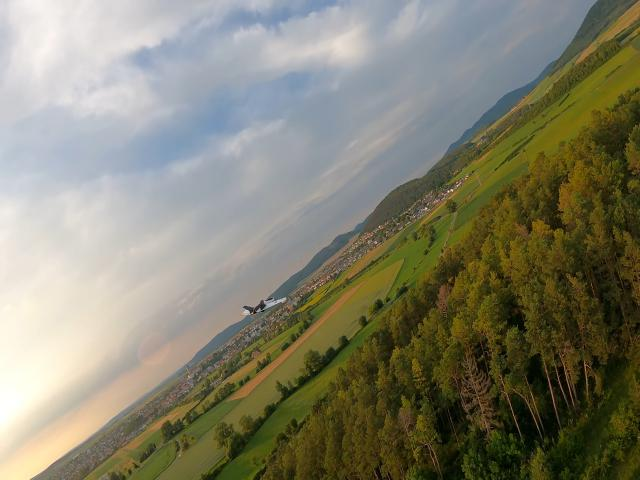plane: (240, 295, 286, 318)
